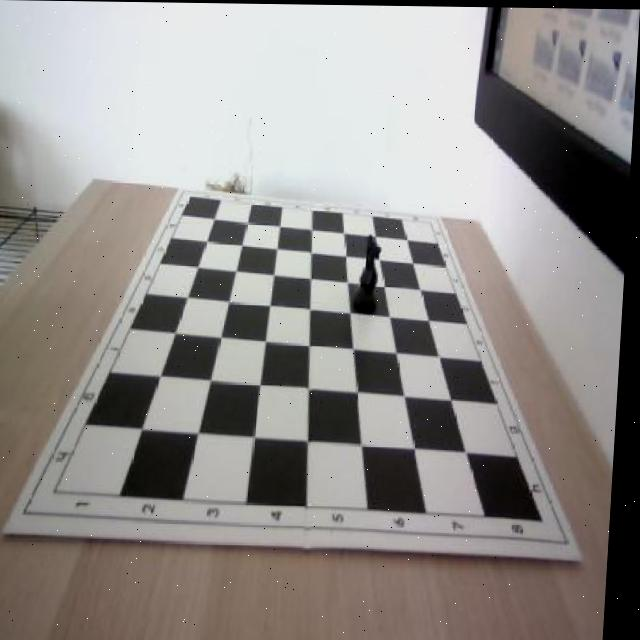black-king: (356, 232, 388, 315)
